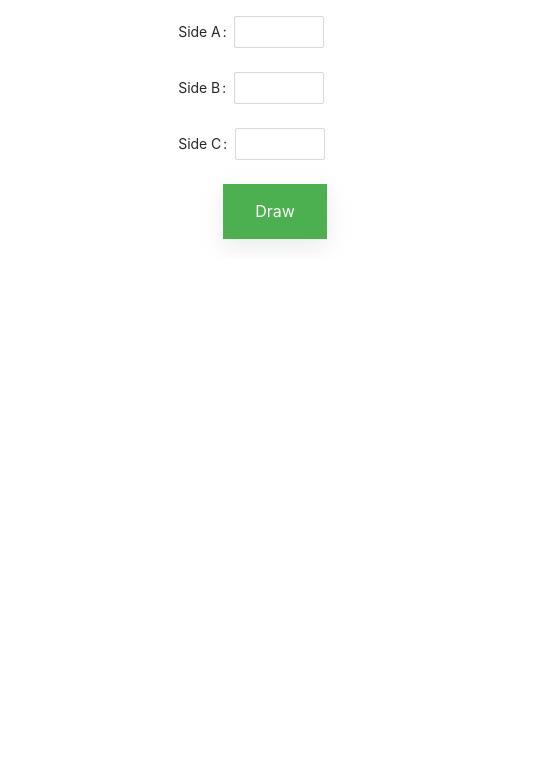
Test: <App /> › calculates the type of the triangle as Isosceles
Step 1. Type "200" into the number field with test id "side" next to "Side A" → (280, 32), box x1=236 y1=17 x2=324 y2=47
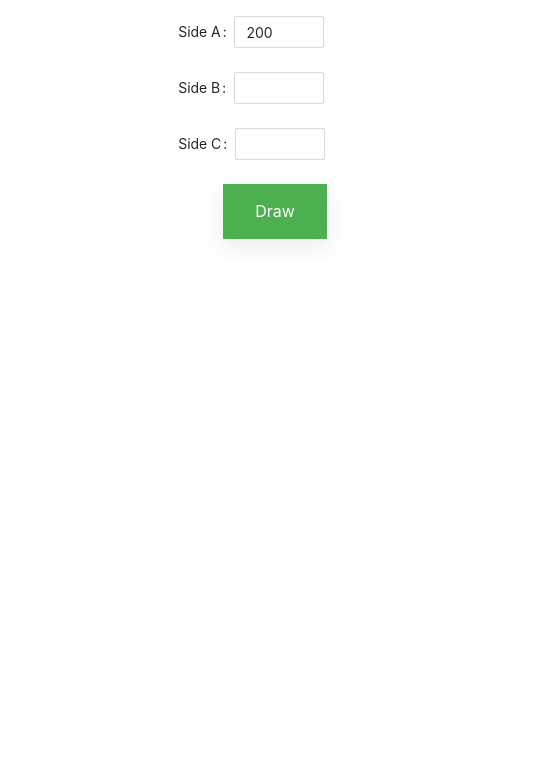
Step 2. Type "200" into the number field with test id "side" next to "Side B" → (279, 88), box x1=235 y1=73 x2=323 y2=103
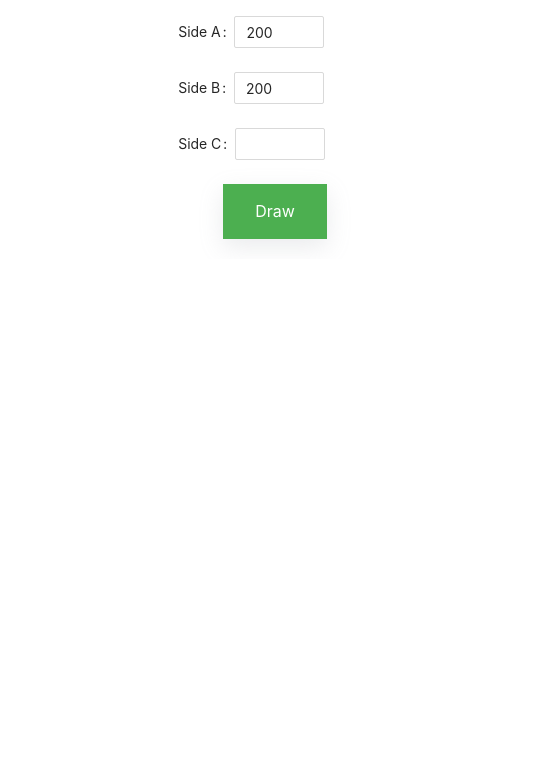
Step 3. Type "300" into the number field with test id "side" next to "Side C" → (280, 144), box x1=236 y1=129 x2=324 y2=159
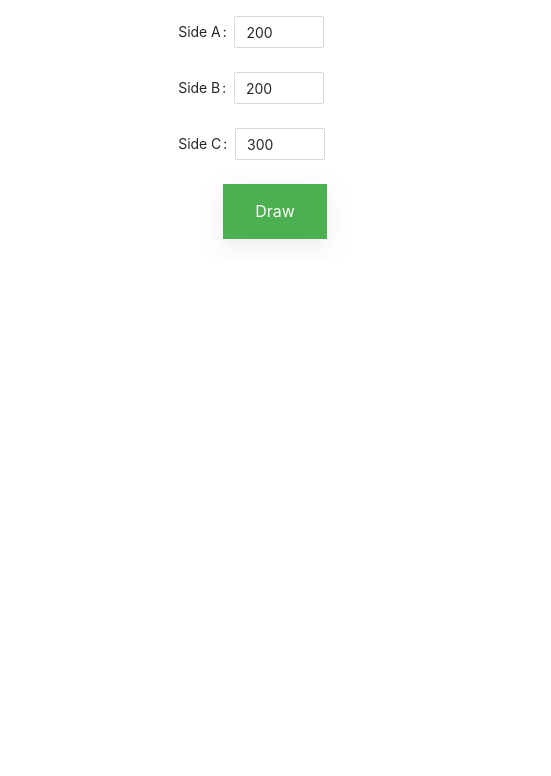
Step 4. Click the button showing "Draw" → (275, 212), box x1=223 y1=184 x2=327 y2=239
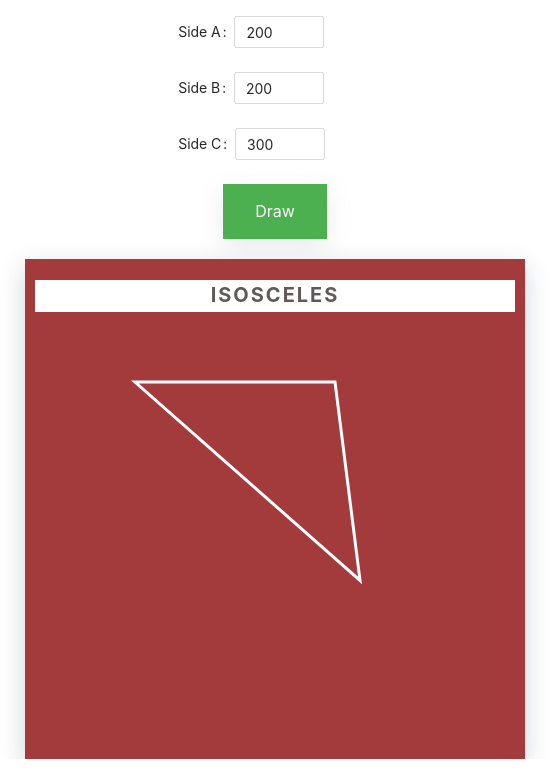
Now the text with test id "triangle-type" reads "Isosceles", box x1=211 y1=283 x2=339 y2=307
